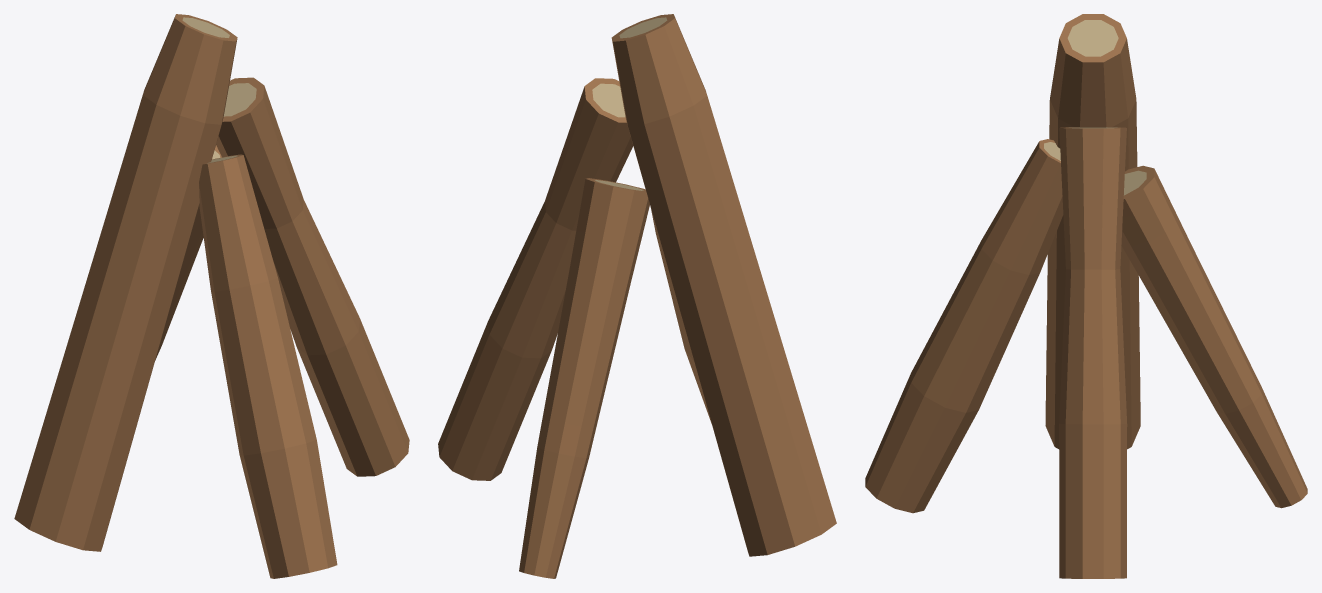
The model's file is Campfire Wood (wrong color).fbx.
3 renders of one model, left to right at view 1: azimuth 30°, elevation 25°; view 2: azimuth 150°, elevation 25°; view 3: azimuth 270°, elevation 25°, orthographic. The views are drawn at different scales.
Visible parts, largest first — view 1: CampFire_1; view 2: CampFire_1; view 3: CampFire_1.
Part boxes in pixels (x1,y1,x2,y2): CampFire_1: [14, 14, 409, 578]; CampFire_1: [438, 14, 836, 578]; CampFire_1: [865, 14, 1307, 578].
Bounding box in the file's own units: 60.36 × 75.06 × 61.86.
